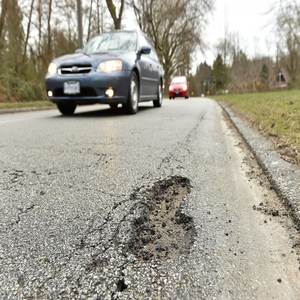pothole: (125, 173, 202, 267)
